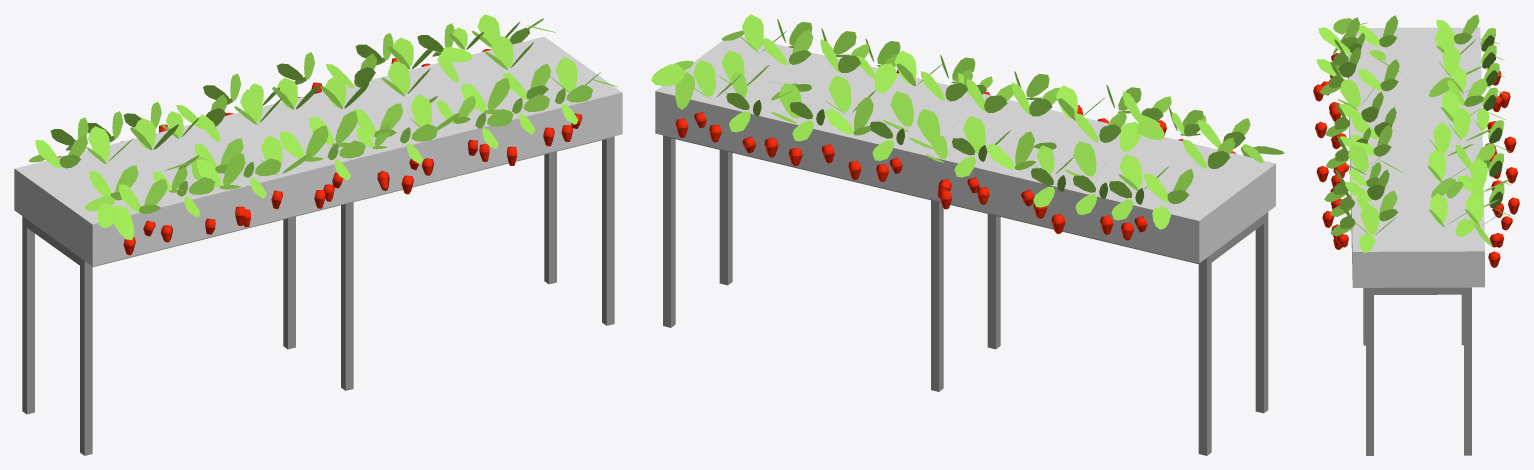
Rendered from StrawberryPlant.glb.
The picture shows the model from 3 angles, left to right: view 1: azimuth 30°, elevation 25°; view 2: azimuth 150°, elevation 25°; view 3: azimuth 270°, elevation 25°; orthographic projection. The views are drawn at different scales.
Parts seen in each view (by area): view 1: いちご苗木009; view 2: いちご苗木009; view 3: いちご苗木009.
Part boxes in pixels (x1,y1,x2,y2): いちご苗木009: (14, 14, 622, 455); いちご苗木009: (651, 14, 1284, 455); いちご苗木009: (1313, 14, 1519, 455).
Size of the model in its own units: 2.01 by 0.9747 by 0.7801.
